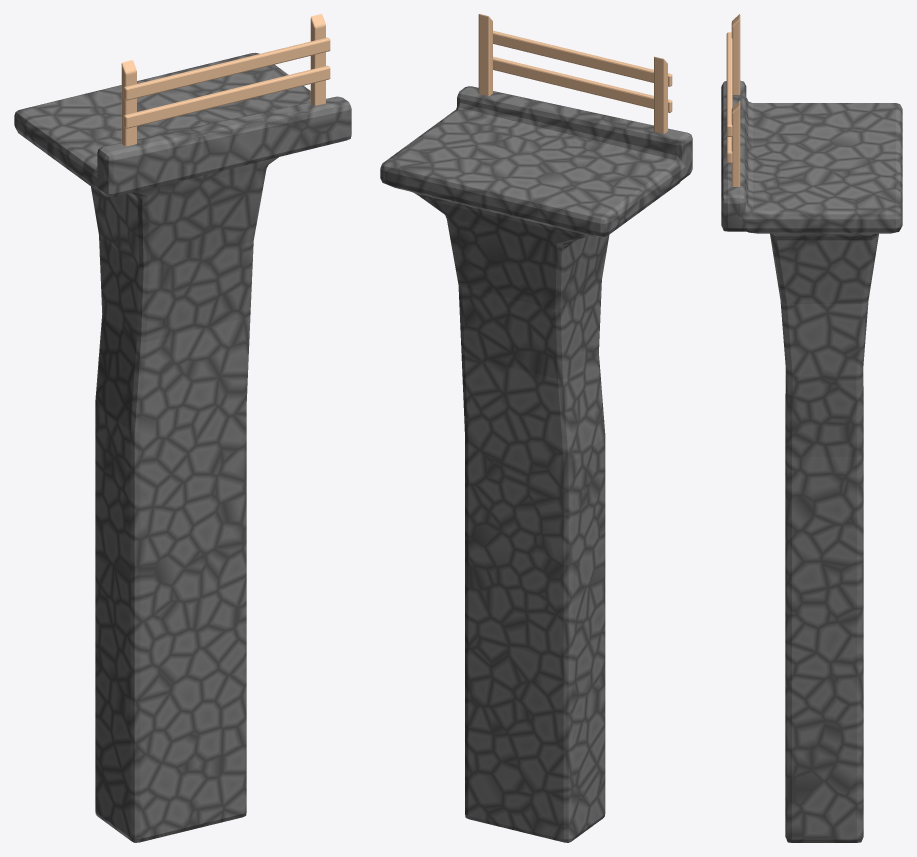
File: bridge_large.fbx
3 renders of one model, left to right at view 1: azimuth 30°, elevation 25°; view 2: azimuth 150°, elevation 25°; view 3: azimuth 270°, elevation 25°, orthographic. The views are drawn at different scales.
Parts seen in each view (by area): view 1: Cube, Cube.006; view 2: Cube, Cube.006; view 3: Cube, Cube.006.
Part boxes in pixels (bbox=[...]): Cube: bbox=[14, 52, 351, 842]; Cube.006: bbox=[121, 14, 330, 146]; Cube: bbox=[380, 86, 692, 842]; Cube.006: bbox=[478, 14, 672, 133]; Cube: bbox=[721, 80, 902, 842]; Cube.006: bbox=[726, 14, 740, 186].
Bounding box in the file's own units: 572 × 1799 × 388.
Materials: 2 (1 with a texture image).
